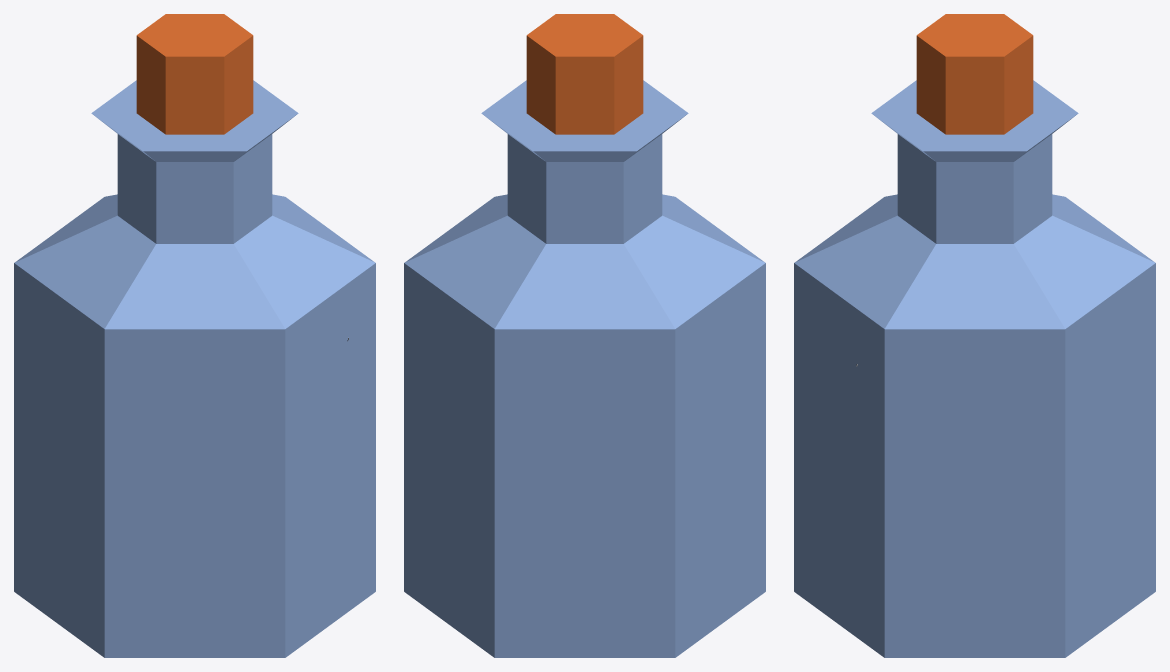
File: FrogModel.dae
3 renders of one model, left to right at view 1: azimuth 30°, elevation 25°; view 2: azimuth 150°, elevation 25°; view 3: azimuth 270°, elevation 25°, orthographic.
Visible parts, largest first — view 1: bottle; view 2: bottle; view 3: bottle.
Part boxes in pixels (<box>): bottle: <box>14,14,375,657</box>; bottle: <box>404,14,765,657</box>; bottle: <box>794,14,1155,657</box>.
Bounding box in the file's own units: 1.73 × 2 × 3.39.
